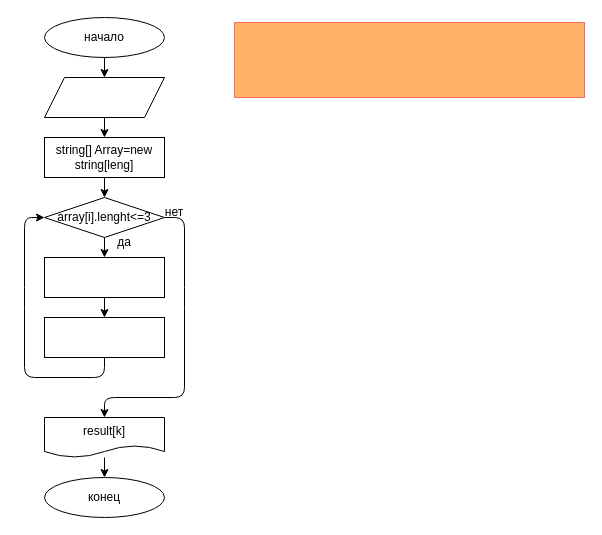
This 602x535 diagram has some shape labels left out. Each missing label, with the box of its shape:
k=k+1: (44, 316, 164, 358)
result[k]=(array[i]): (44, 256, 164, 298)
ввод leng: (44, 76, 164, 118)
